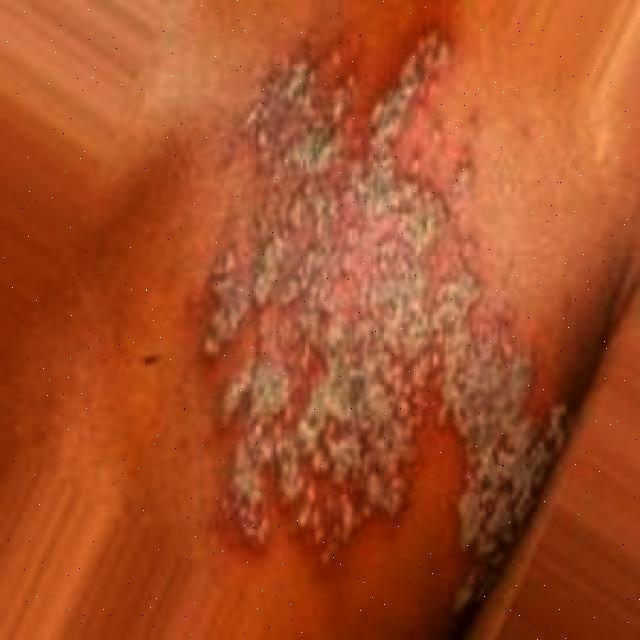Shingles: (203, 20, 566, 613)
